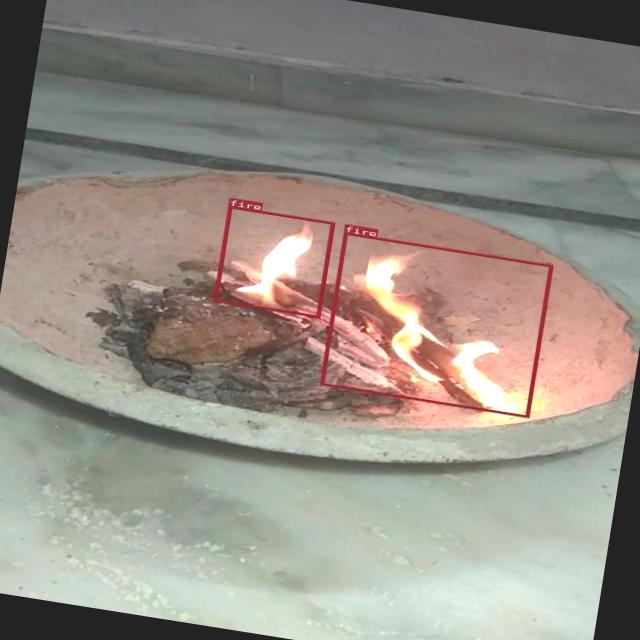fire: (320, 232, 552, 418), (212, 205, 334, 318)
